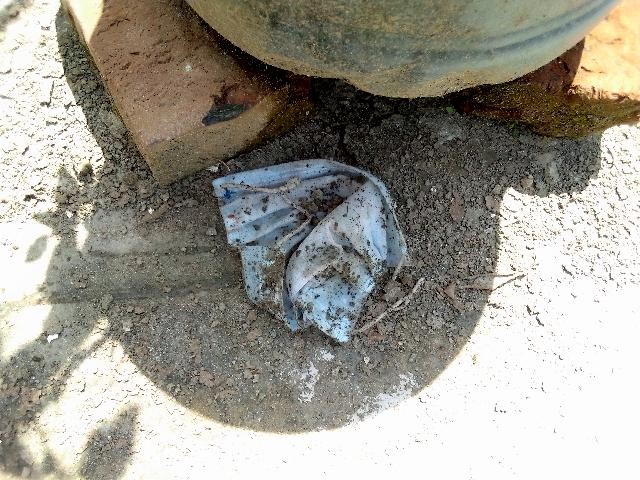mask: (229, 148, 399, 377)
